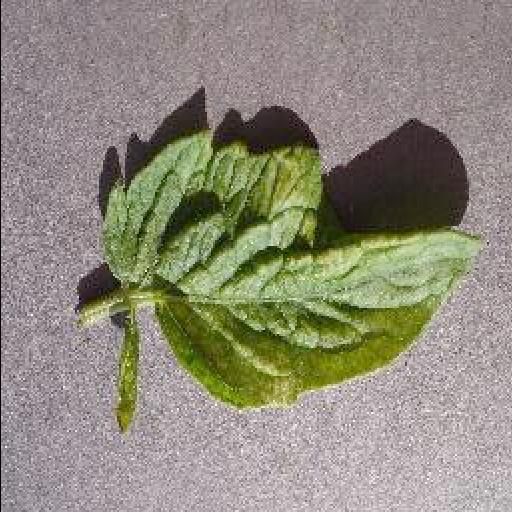disease_tomato: (98, 134, 486, 412)
